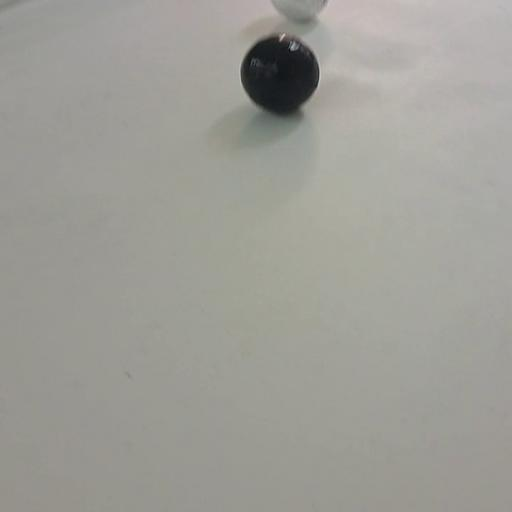alive: (269, 1, 331, 24)
dead: (238, 29, 323, 115)
